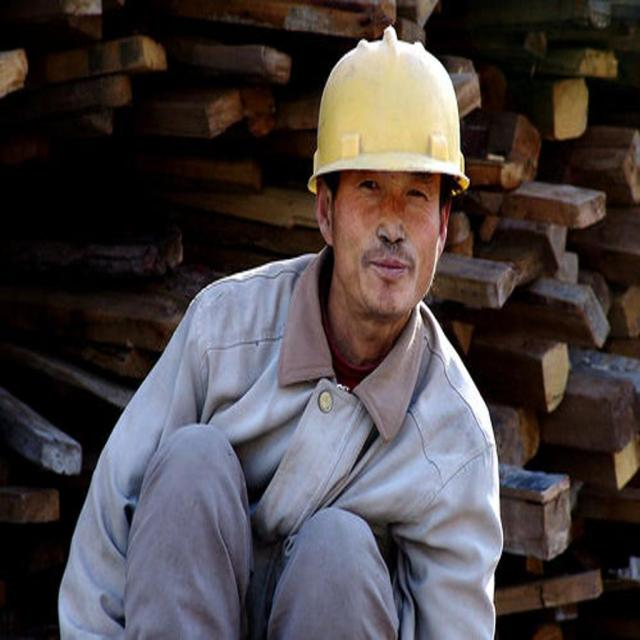Face: (331, 166, 452, 320)
